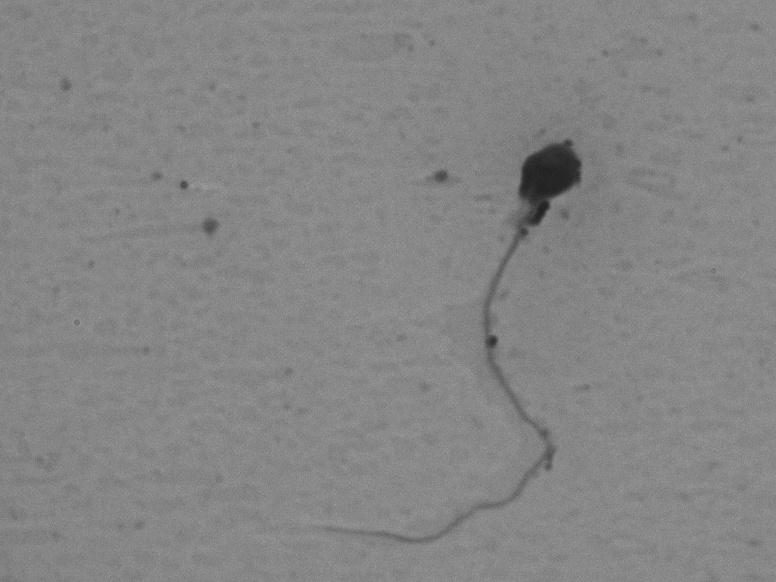Abnormal: (263, 119, 637, 559)
